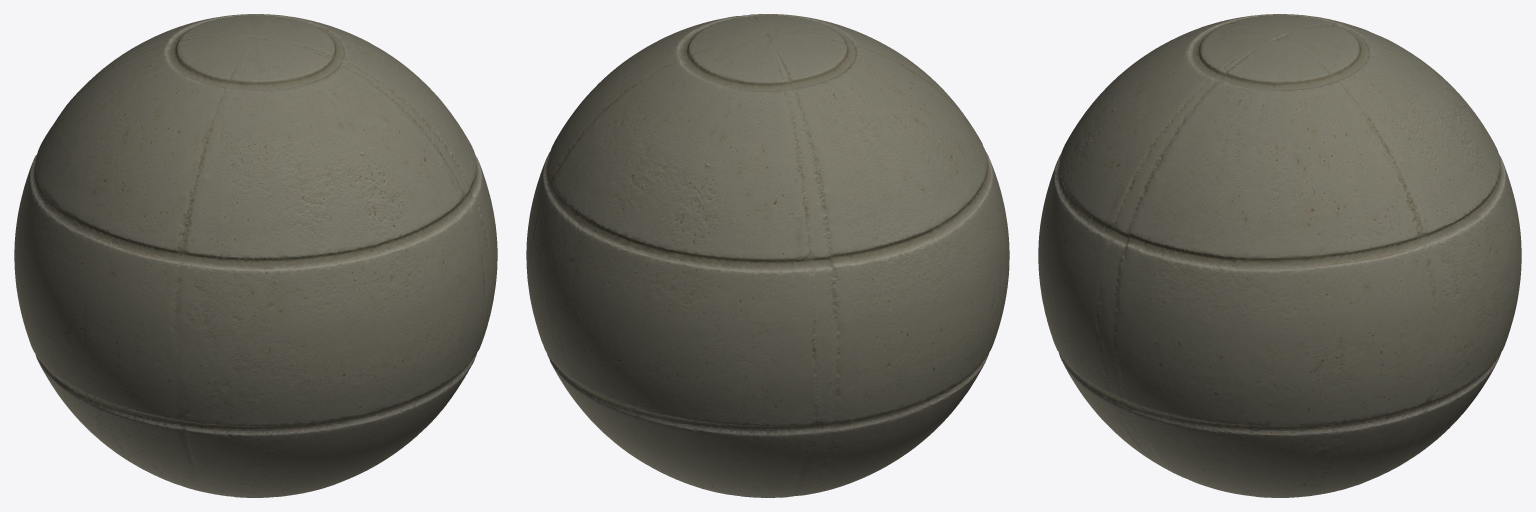
Rendered from concrete_wall_004_1k.gltf.
The picture shows the model from 3 angles, left to right: view 1: azimuth 30°, elevation 25°; view 2: azimuth 150°, elevation 25°; view 3: azimuth 270°, elevation 25°; orthographic projection.
Visible parts, largest first — view 1: sphere_gltf; view 2: sphere_gltf; view 3: sphere_gltf.
Part boxes in pixels (x1=…): sphere_gltf: x1=14, y1=14, x2=497, y2=497; sphere_gltf: x1=526, y1=14, x2=1009, y2=497; sphere_gltf: x1=1038, y1=14, x2=1521, y2=497.
Bounding box in the file's own units: 2.01 × 2.01 × 2.01.
Materials: 1 (1 with a texture image).
